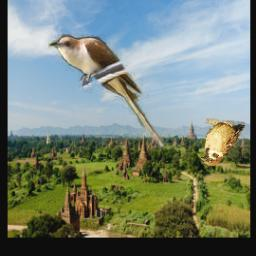Cuckoo: (48, 34, 164, 148)
Sparrow: (199, 119, 245, 167)
